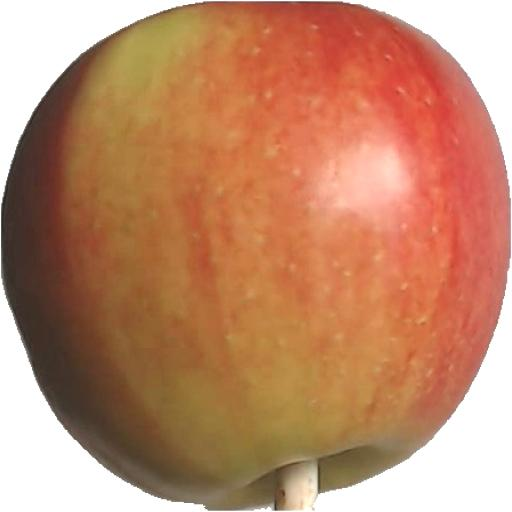apple-ripe: (0, 0, 509, 512)
